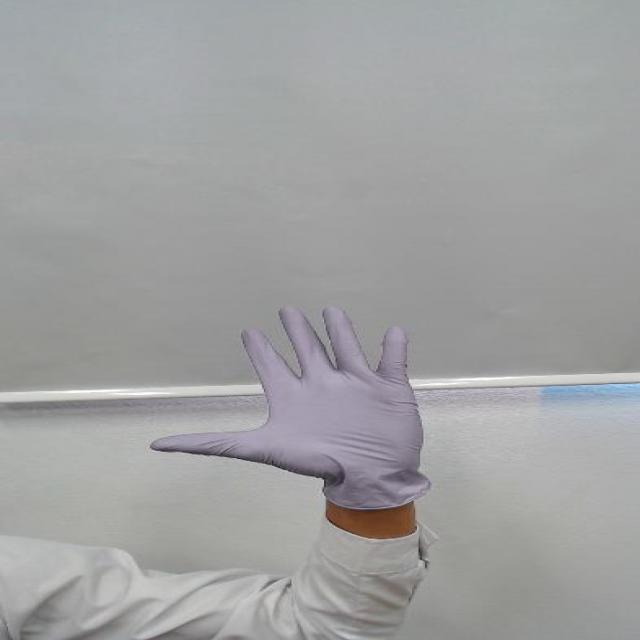with_gloves: (127, 304, 472, 497)
